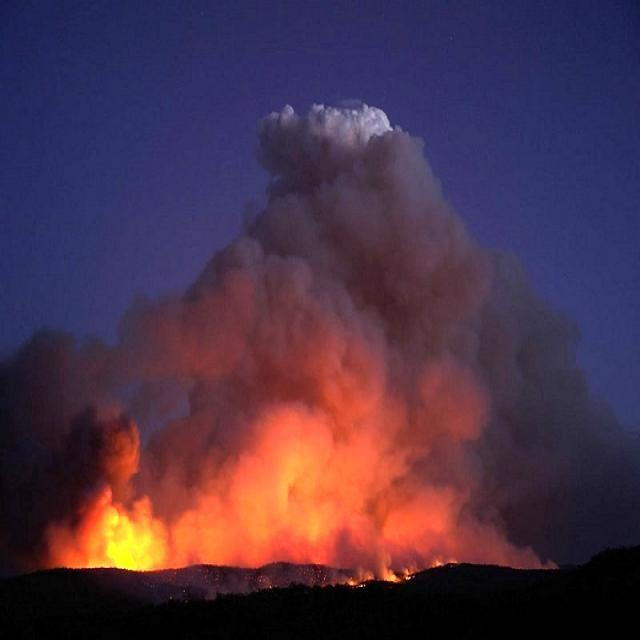Smoke: (45, 96, 612, 564)
